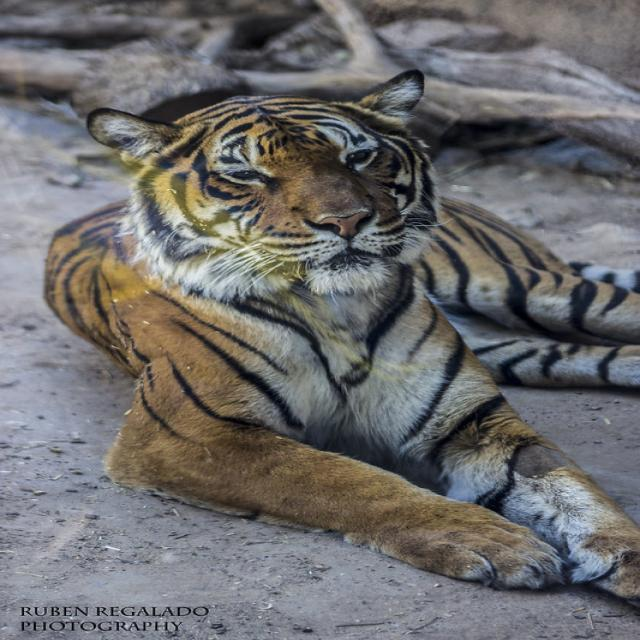Tiger: (43, 85, 638, 601)
